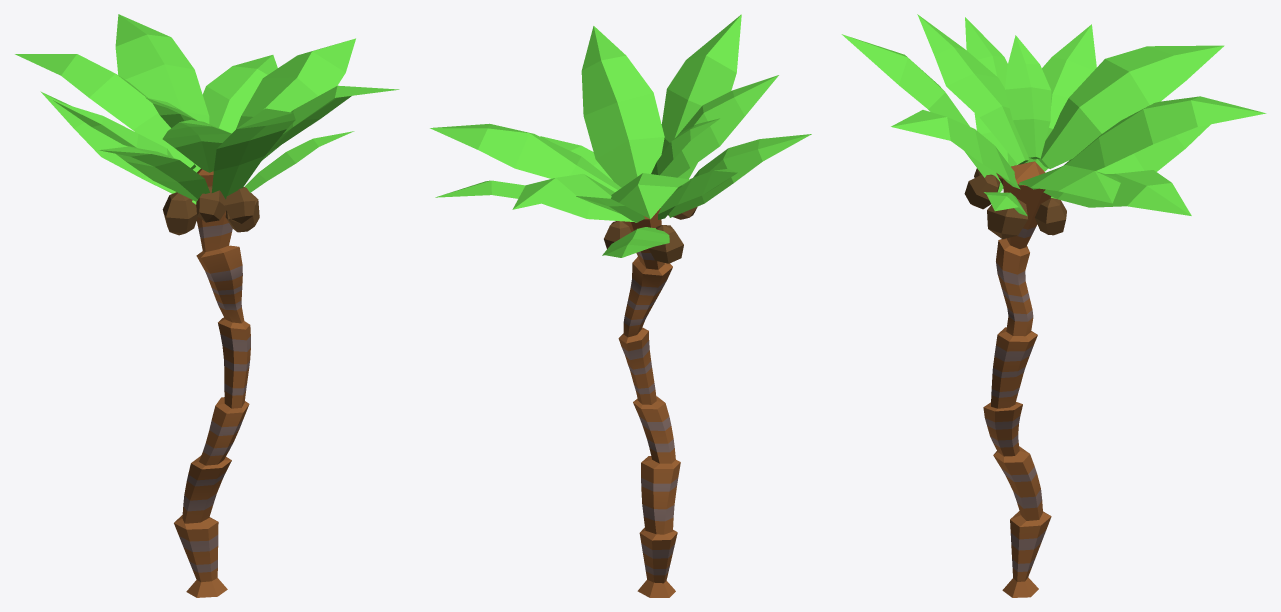
File: low_poly_palmtree_alternative.fbx
3 views of the same model, side by side, from view 1: azimuth 30°, elevation 25°; view 2: azimuth 150°, elevation 25°; view 3: azimuth 270°, elevation 25° (orthographic). The views are drawn at different scales.
Visible parts, largest first — view 1: PalmTree; view 2: PalmTree; view 3: PalmTree.
Part boxes in pixels (box(x1,y1,x2,y2)): PalmTree: box(15, 14, 399, 597); PalmTree: box(430, 14, 811, 597); PalmTree: box(841, 14, 1266, 597).
Bounding box in the file's own units: 396 × 622 × 433.
